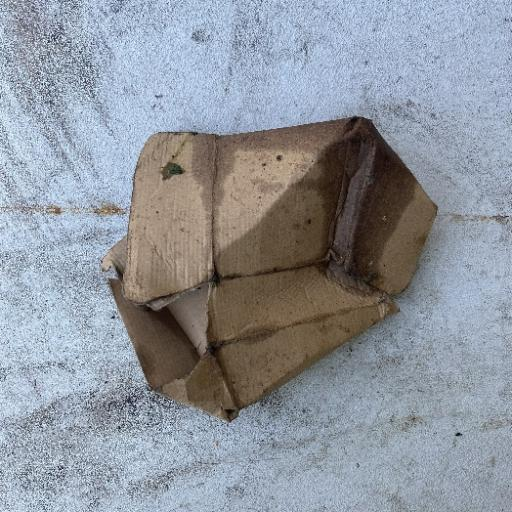Cardboard: (100, 114, 438, 423)
